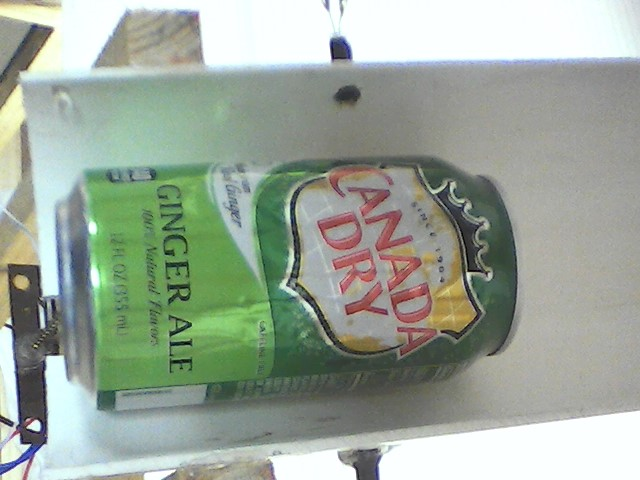lata: (51, 151, 532, 421)
